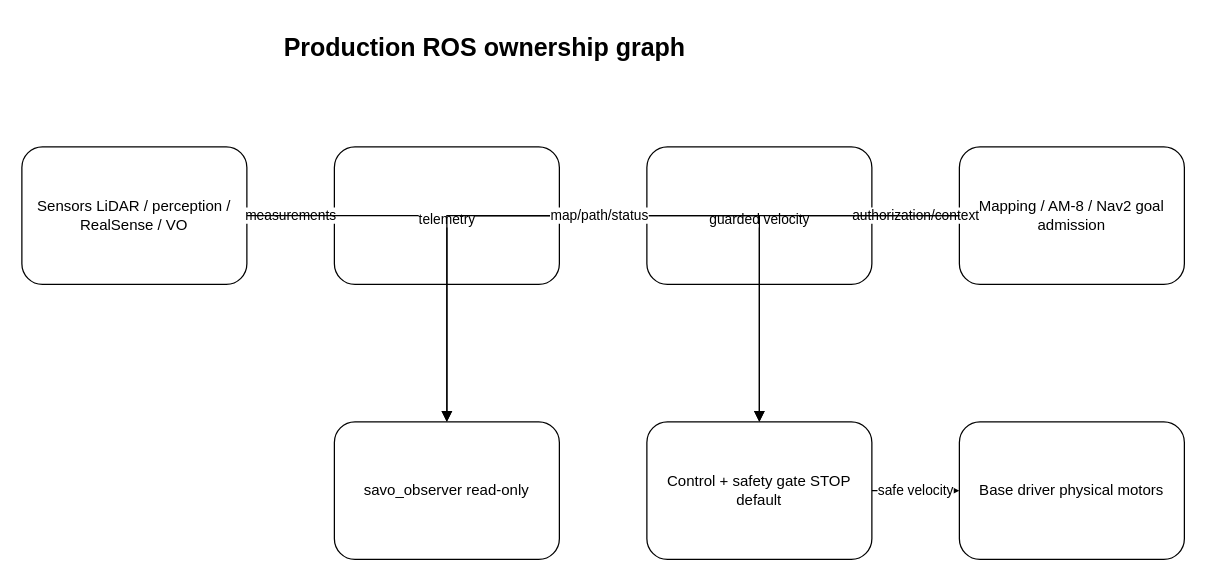
The diagram is 1206 pixels wide and 581 high, and some of its shapes have lost their labels. The shapes that lost their labels are listed below. From the top down, each one's centre as x and y in pixels, then its label:
At (446,215): "Localization map/odom/base TF".
At (759,215): "Supervisor + bringup readiness and authorization".
